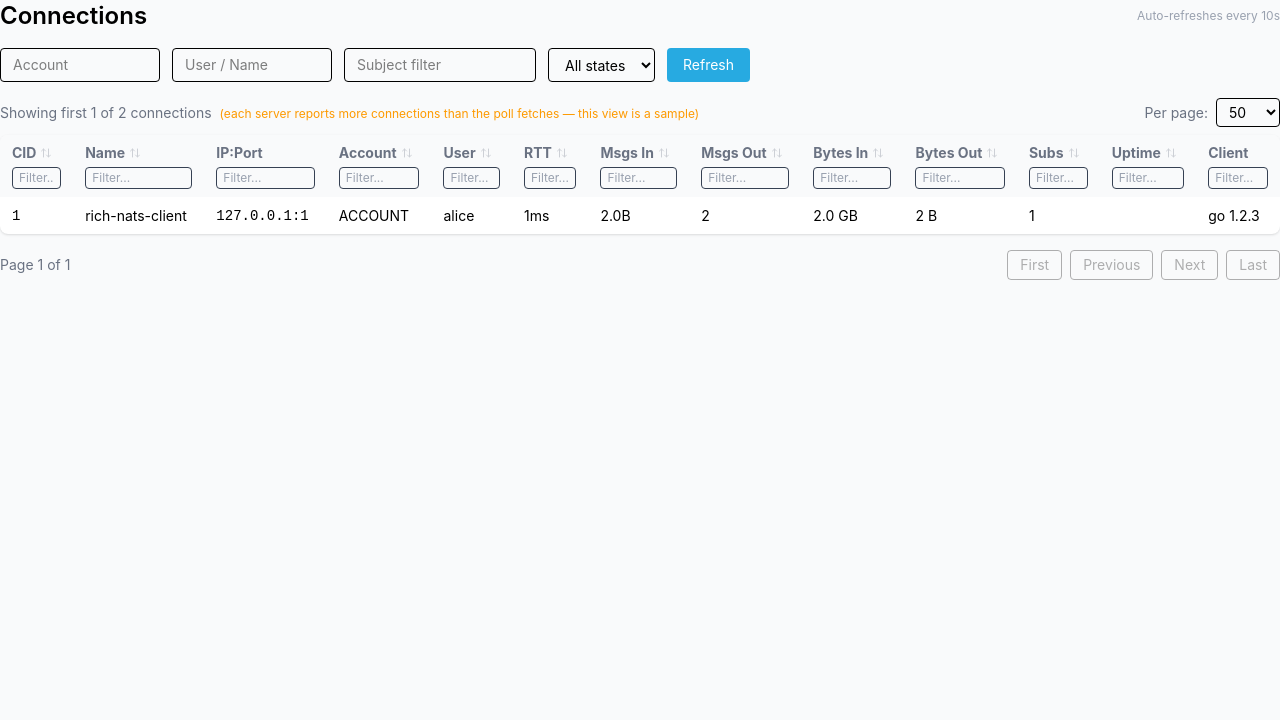
Test case: pagination, modal, and administration interactions › filters, sorts, and loads a complete NATS connection detail
Expected: the text "rich-nats-client" is shown, [73,197,204,234]
Click the column heading "Name" at (139, 166), box [73,135,204,197]
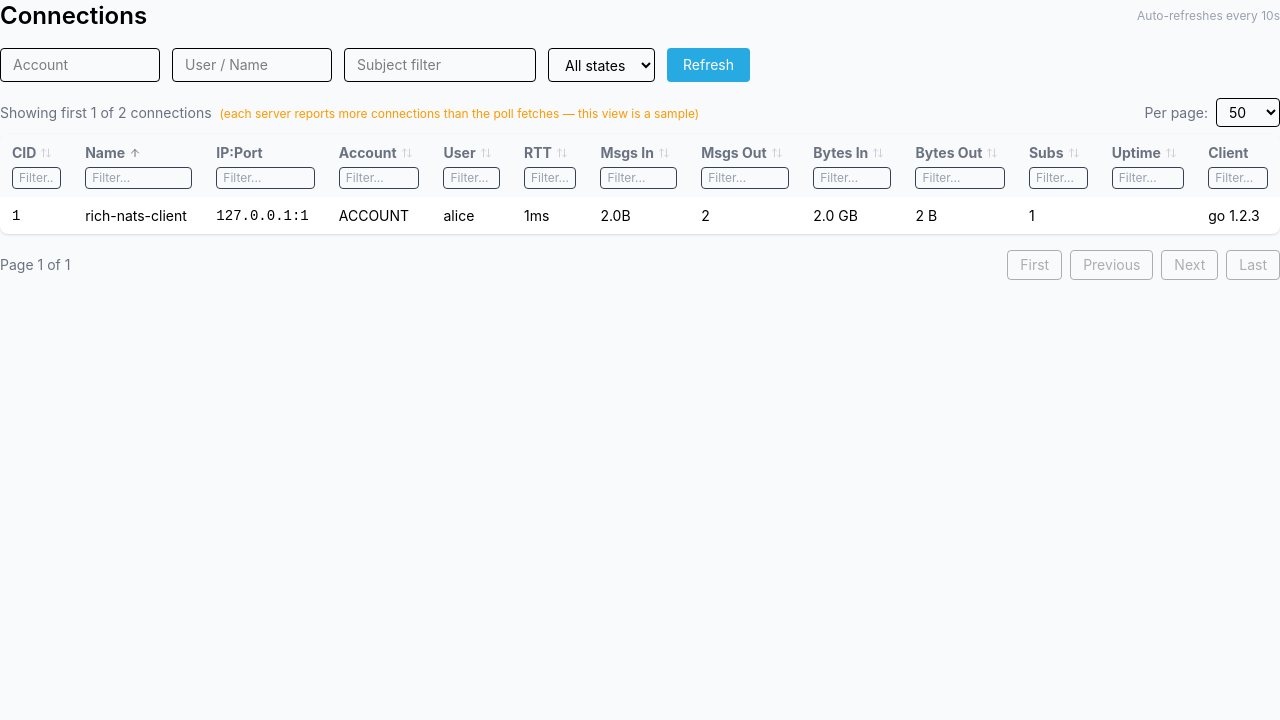
Click the column heading "Name" at (139, 166), box [73,135,204,197]
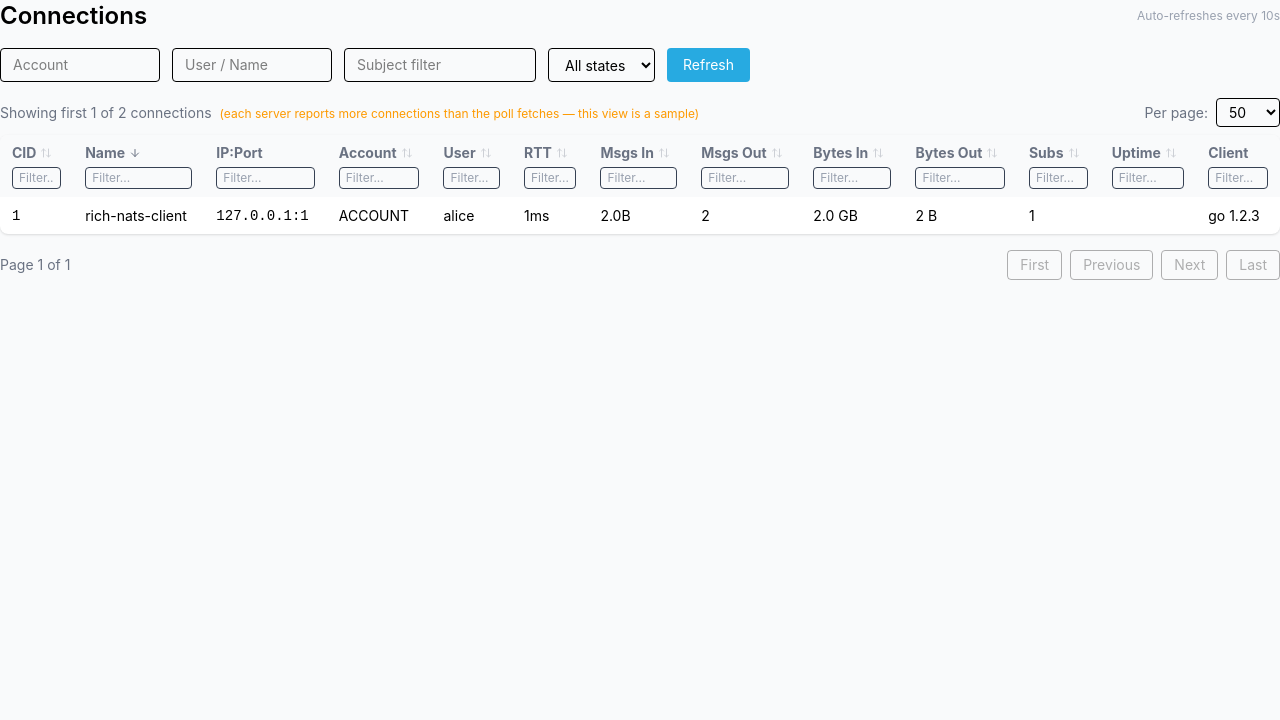
Type "alice" into the field with placeholder "User / Name" at (252, 65), box [172,48,332,82]
Type "ACCOUNT" into the field with placeholder "Account" at (80, 65), box [0,48,160,82]
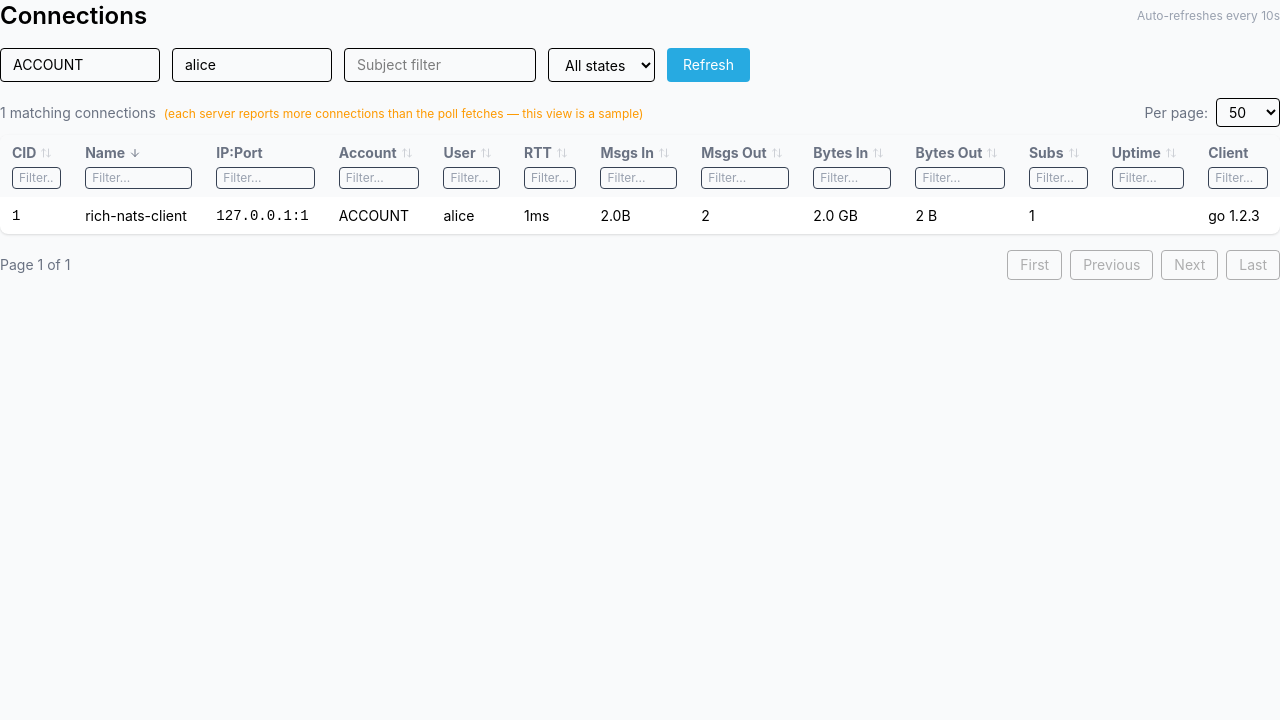
Type "orders.>" into the field with placeholder "Subject filter" at (440, 65), box [344,48,536,82]
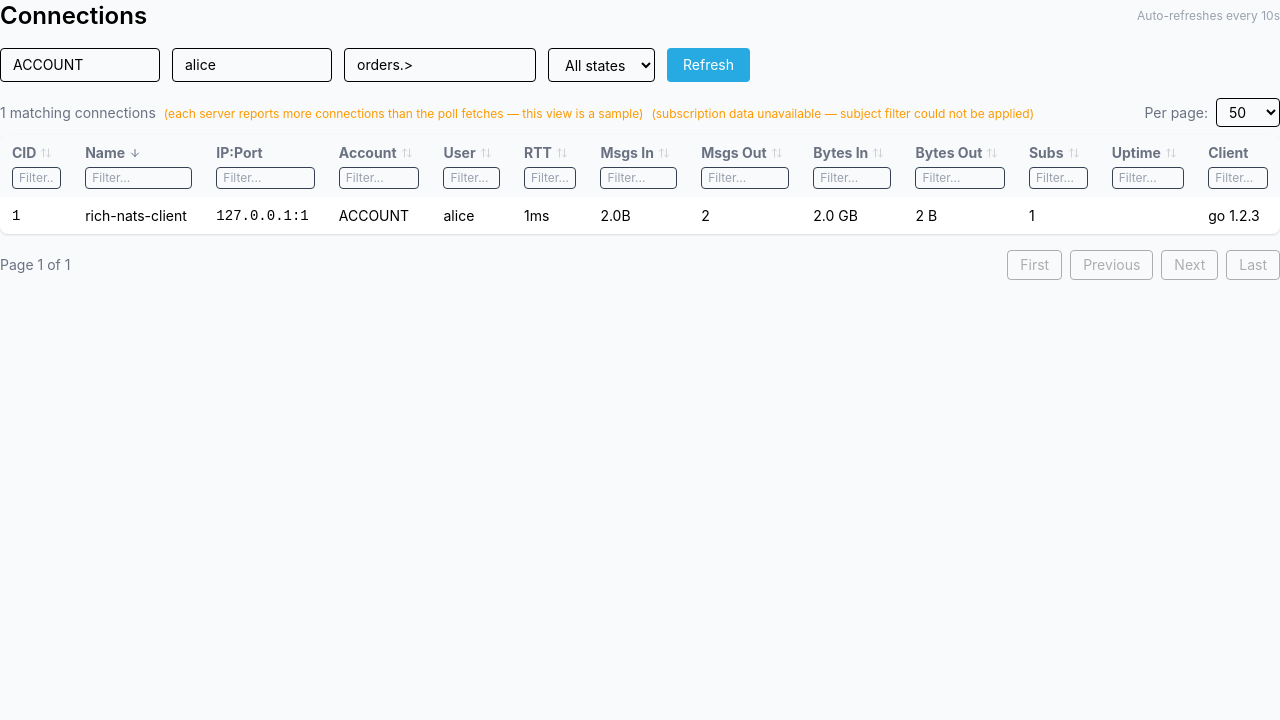
Select "Open" in the 1st dropdown at (602, 65), box [548,48,655,82]
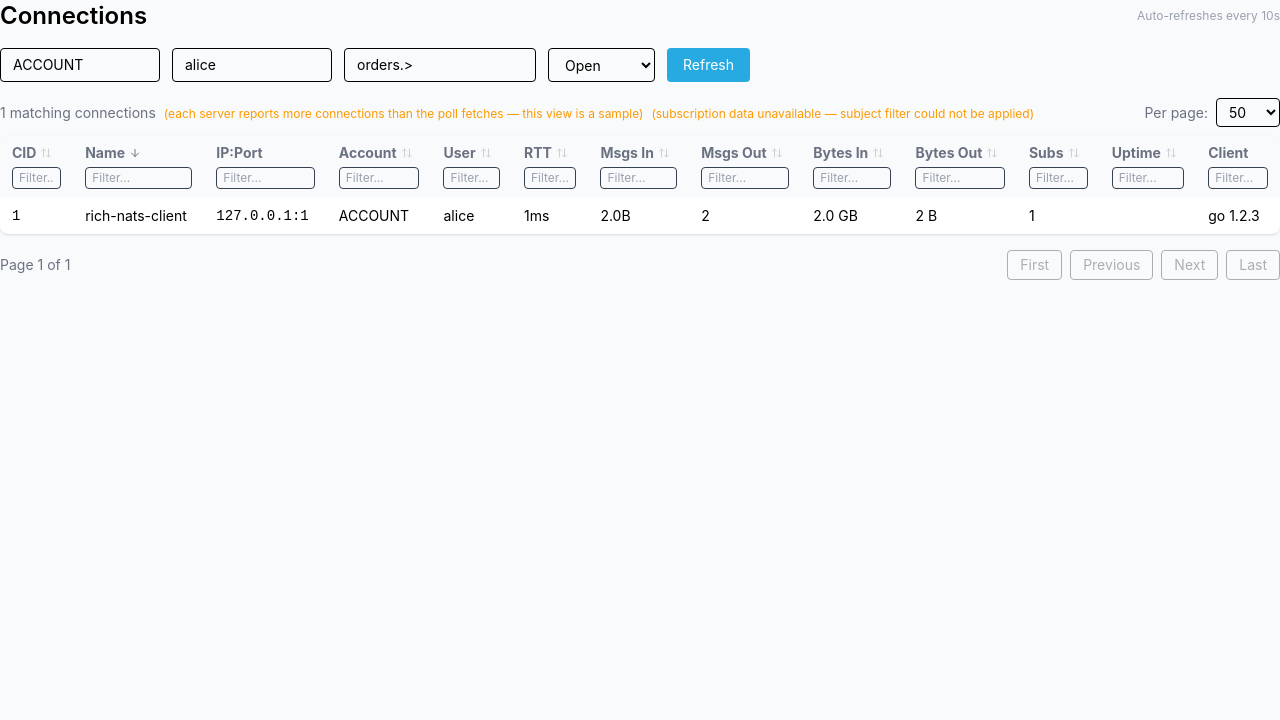
Result: the text "matching connections" is shown at [0,104,156,120]
Result: the text "subscription data unavailable" is shown at [651,106,1034,120]
Click the text "rich-nats-client" at (139, 216), box [73,197,204,234]
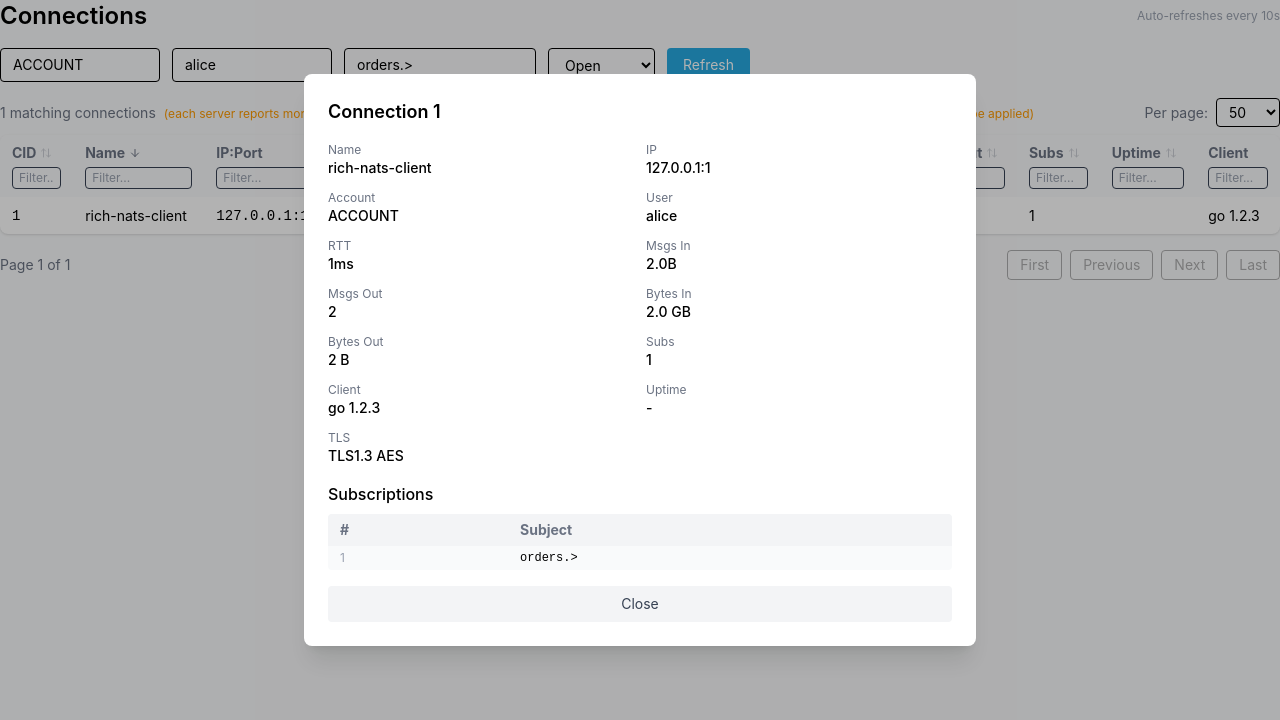
Result: the text "orders.>" is shown at [508,546,952,570]
Result: the text "TLS1.3 AES" is shown at [328,447,404,464]
